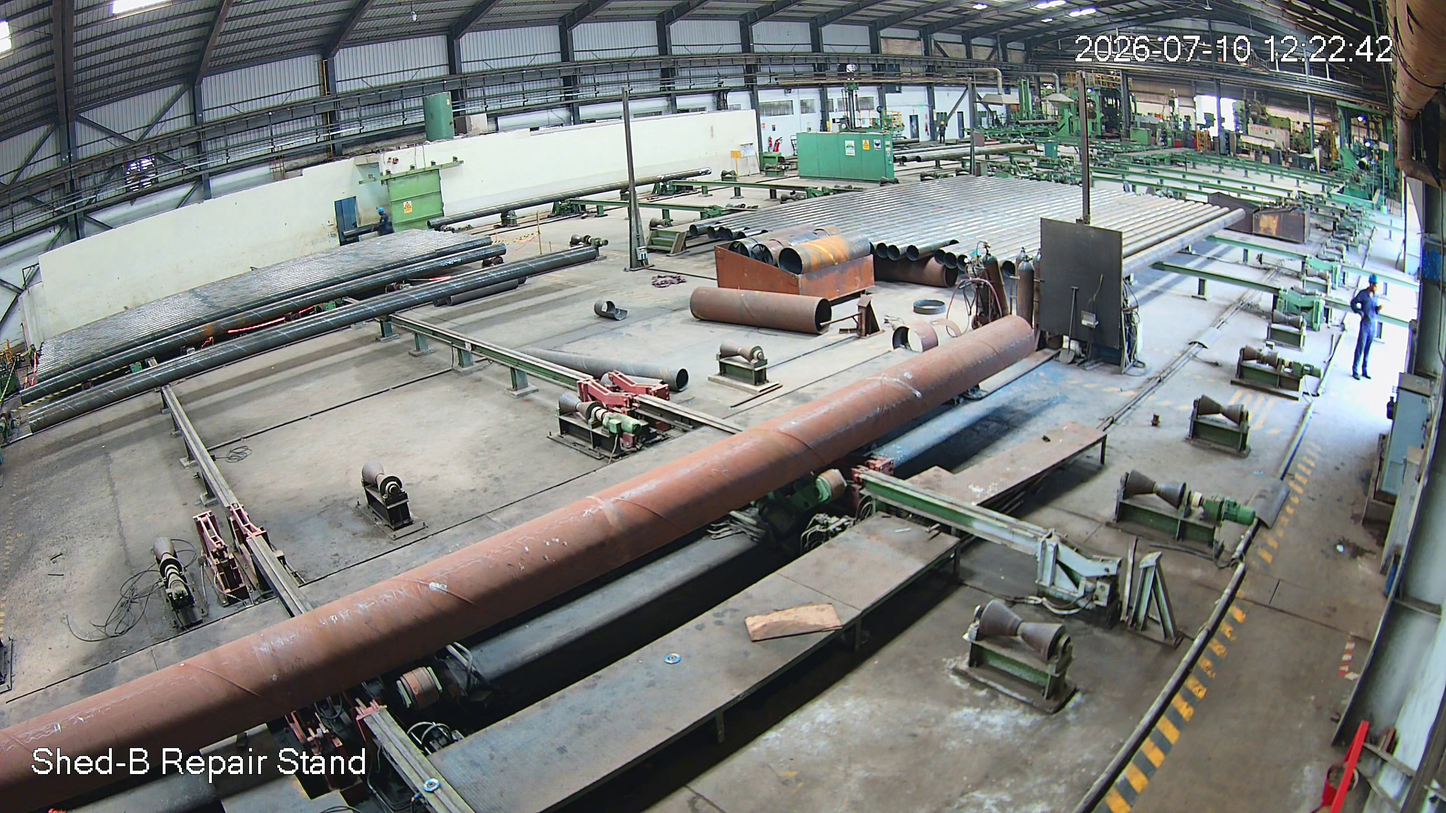Helmet: (1363, 268, 1395, 301)
Person: (1349, 271, 1388, 392)
